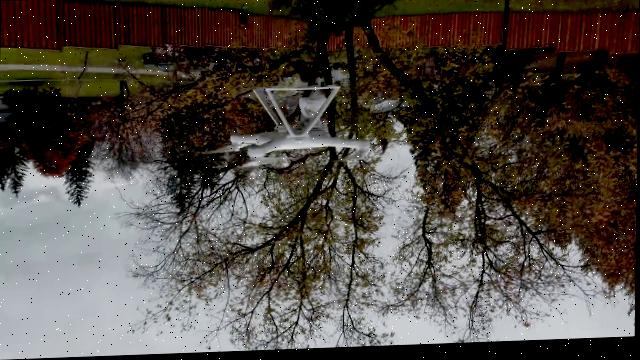drone: (177, 67, 408, 192)
